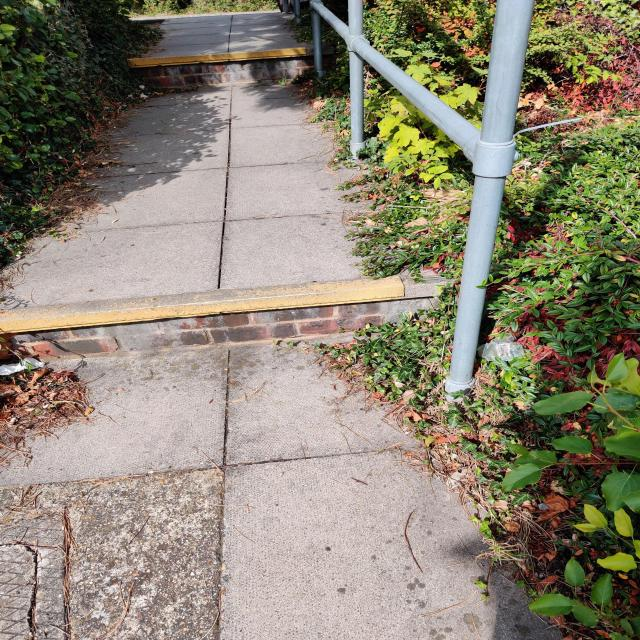litter: (474, 332, 525, 362)
